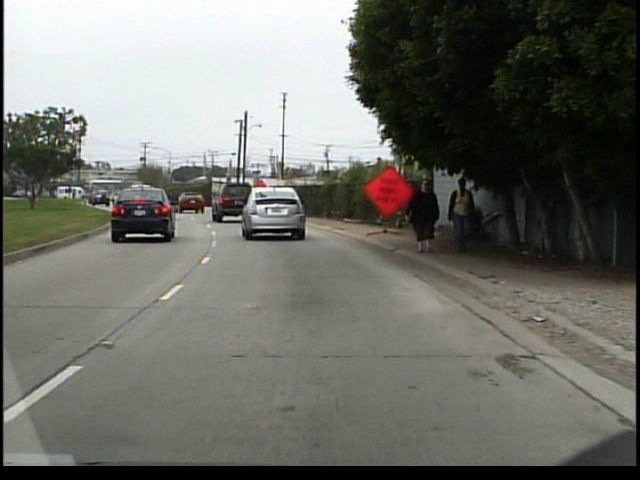person: (400, 175, 440, 258), (442, 175, 476, 253)
